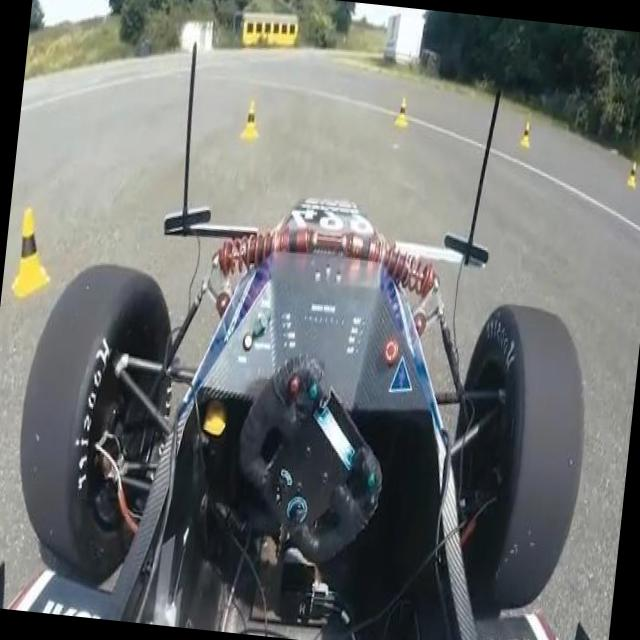Cono de seguridad: (10, 206, 56, 300), (239, 99, 262, 140), (394, 98, 409, 128), (626, 162, 638, 190), (520, 120, 532, 146)
vehiculo: (0, 25, 640, 640)
